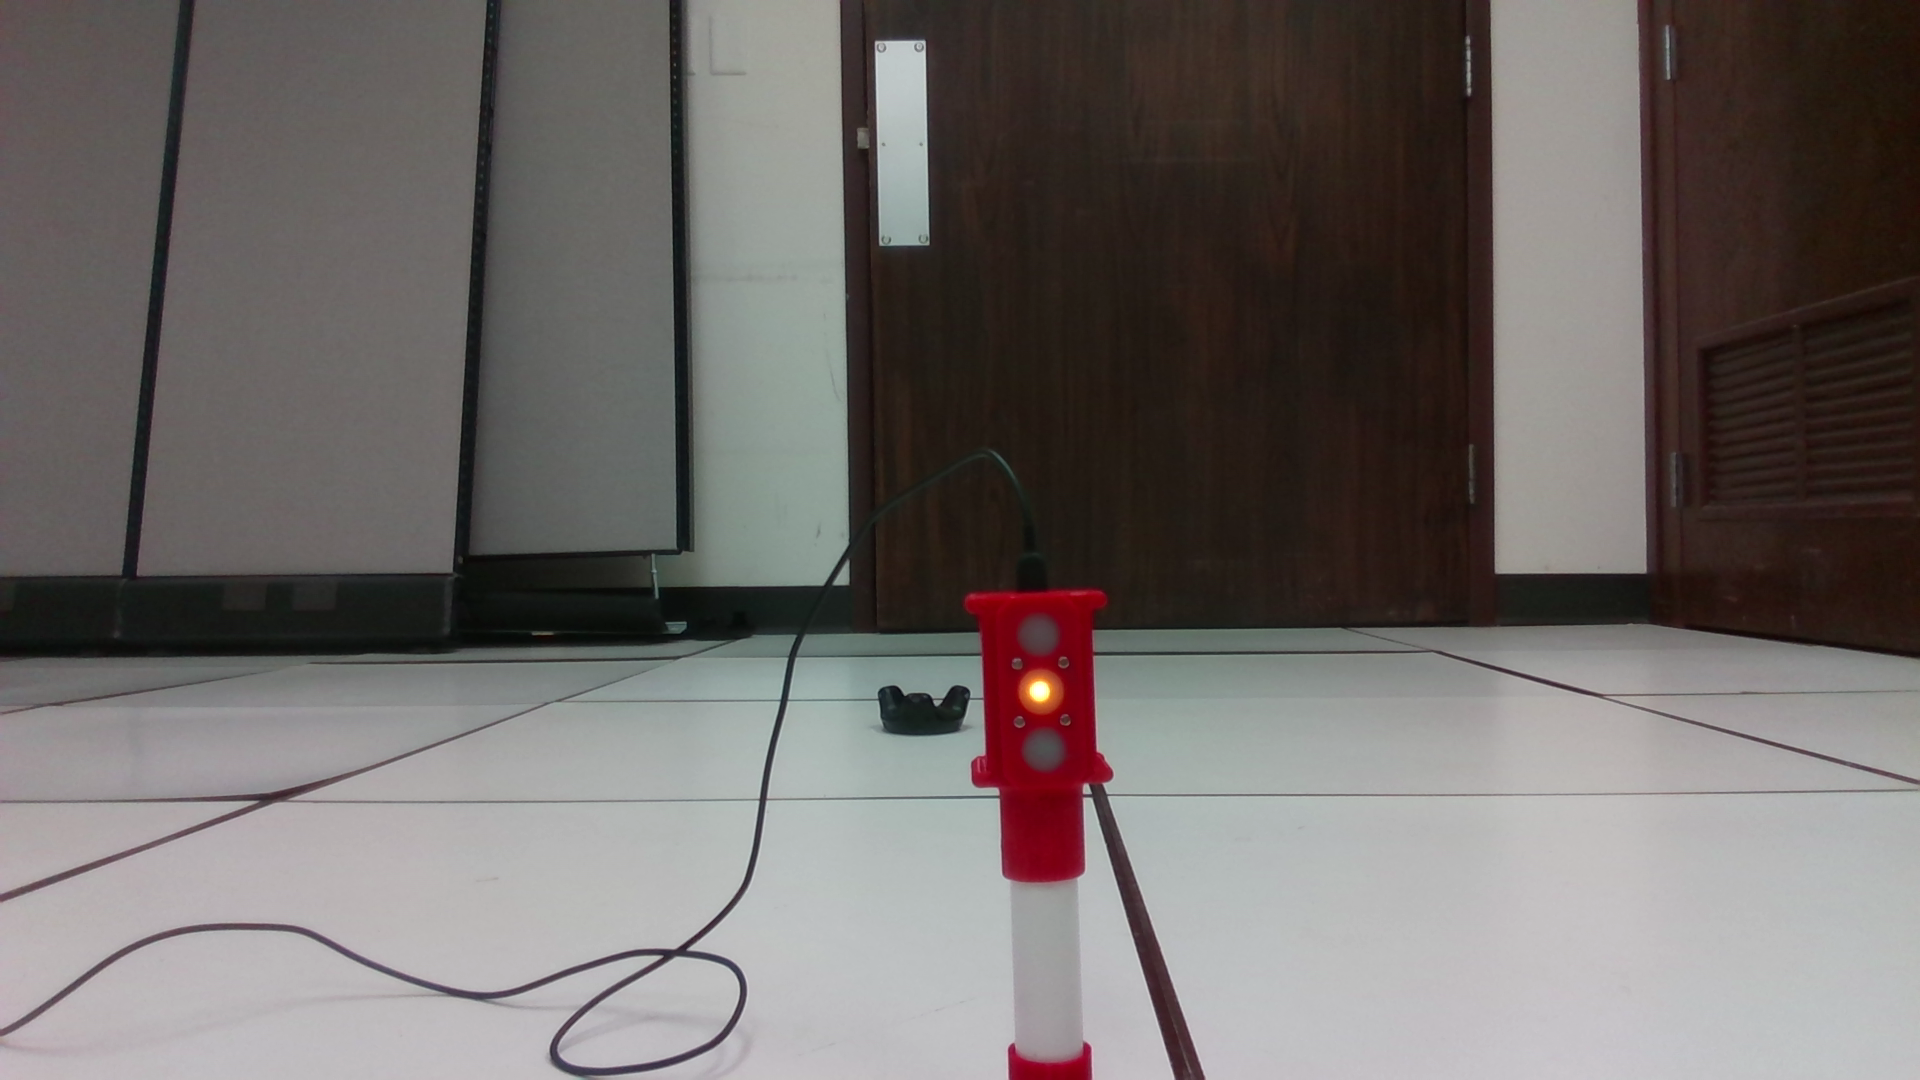stoplight: (961, 585, 1117, 887)
